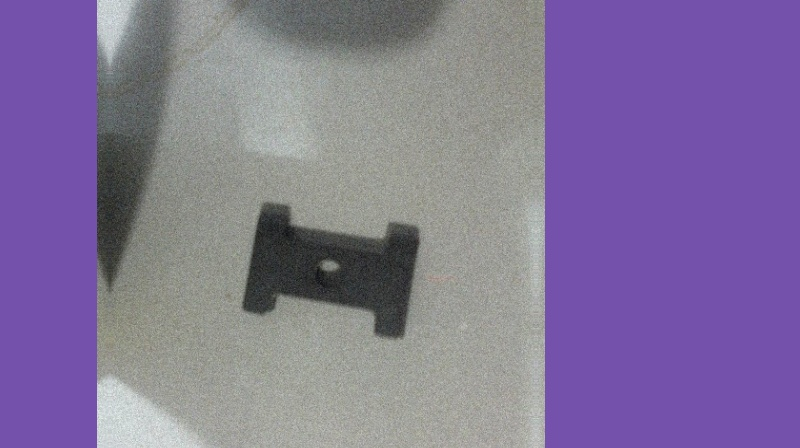O002: (238, 211, 420, 339)
